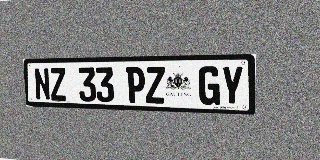3: (95, 67, 114, 102), (78, 67, 96, 102)
G: (198, 66, 220, 105)
N: (34, 68, 51, 100)
P: (126, 67, 145, 103)
Y: (221, 66, 244, 106)
Z: (145, 67, 165, 104), (49, 68, 67, 101)
